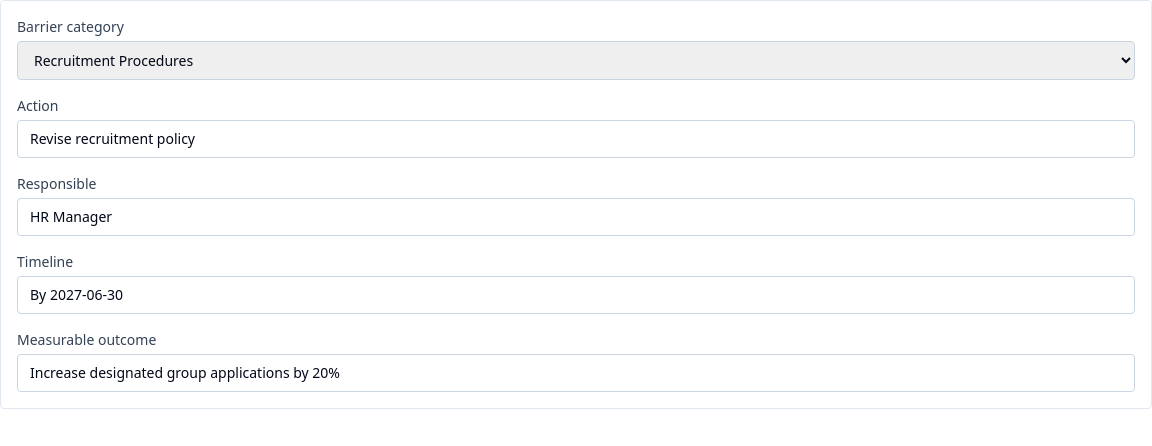
Test case: BarrierCategoryBlock — removal-plan mode › shows timeline error and aria-invalid when value contains "Ongoing basis"
Replace the text in the field labelled "Timeline" with "Ongoing basis" at (576, 295), box [17,276,1135,314]
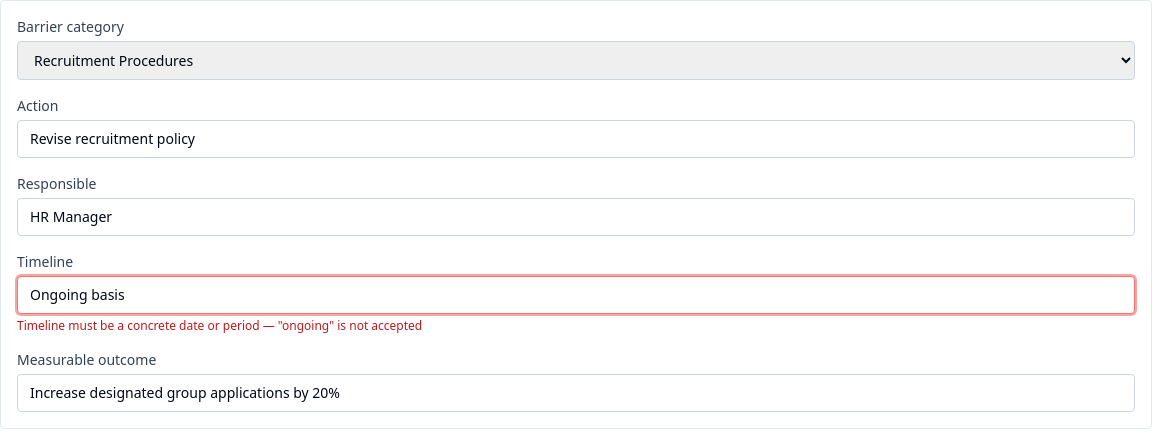
Check: the text "Timeline must be a concrete date or period — \"ongoing\" is not accepted" is shown, box [17,317,422,334]
